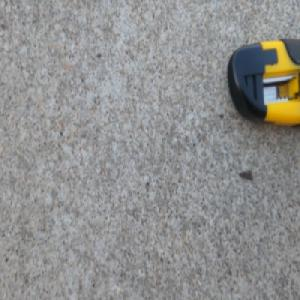Cutter: (226, 37, 300, 128)
